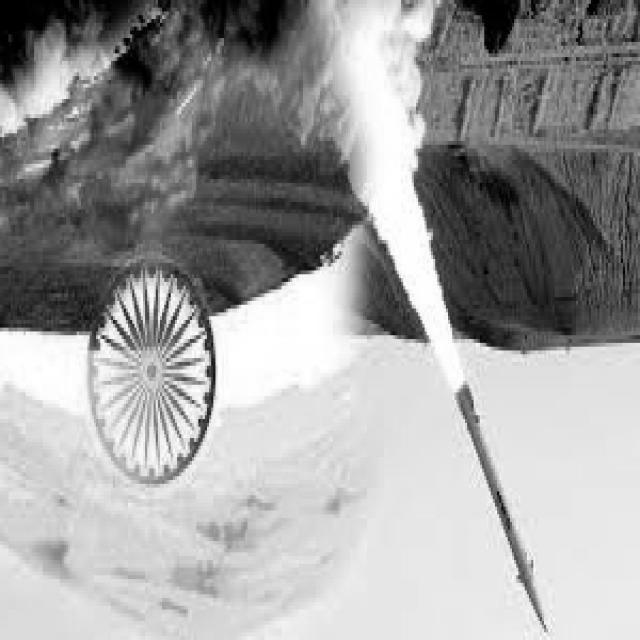Missile: (450, 370, 561, 640)
